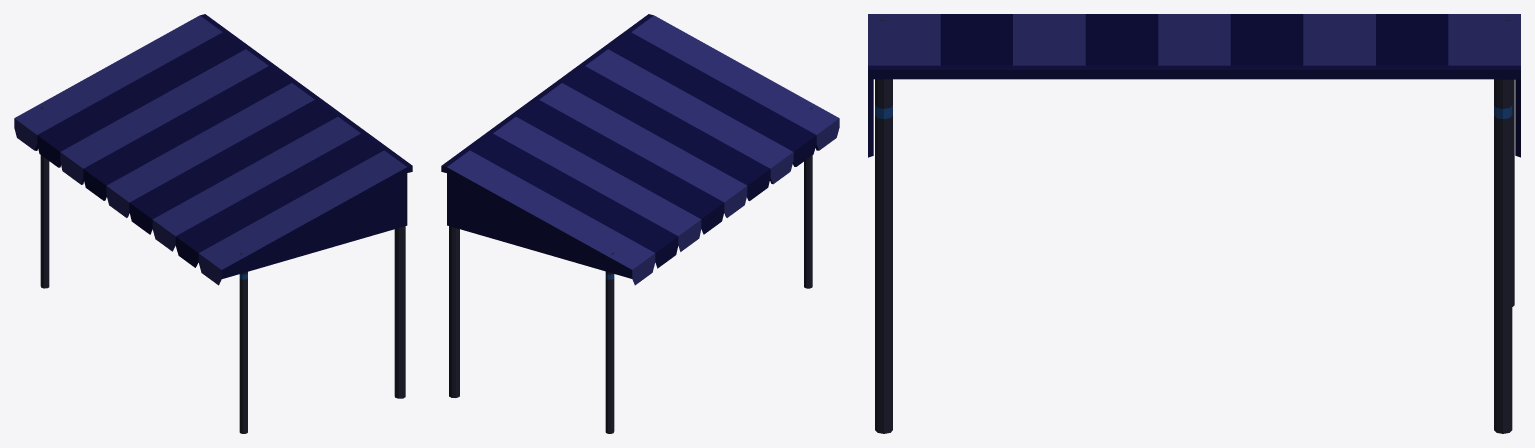
File: Town_Awning01.fbx
The picture shows the model from 3 angles, left to right: view 1: azimuth 30°, elevation 25°; view 2: azimuth 150°, elevation 25°; view 3: azimuth 270°, elevation 25°; orthographic projection. The views are drawn at different scales.
Visible parts, largest first — view 1: Cube.561; view 2: Cube.561; view 3: Cube.561.
Boxes of the visible parts, <box> form: Cube.561: <box>14,14,412,433</box>; Cube.561: <box>441,14,839,433</box>; Cube.561: <box>868,14,1520,433</box>.
Bounding box in the file's own units: 189 × 220 × 355.
